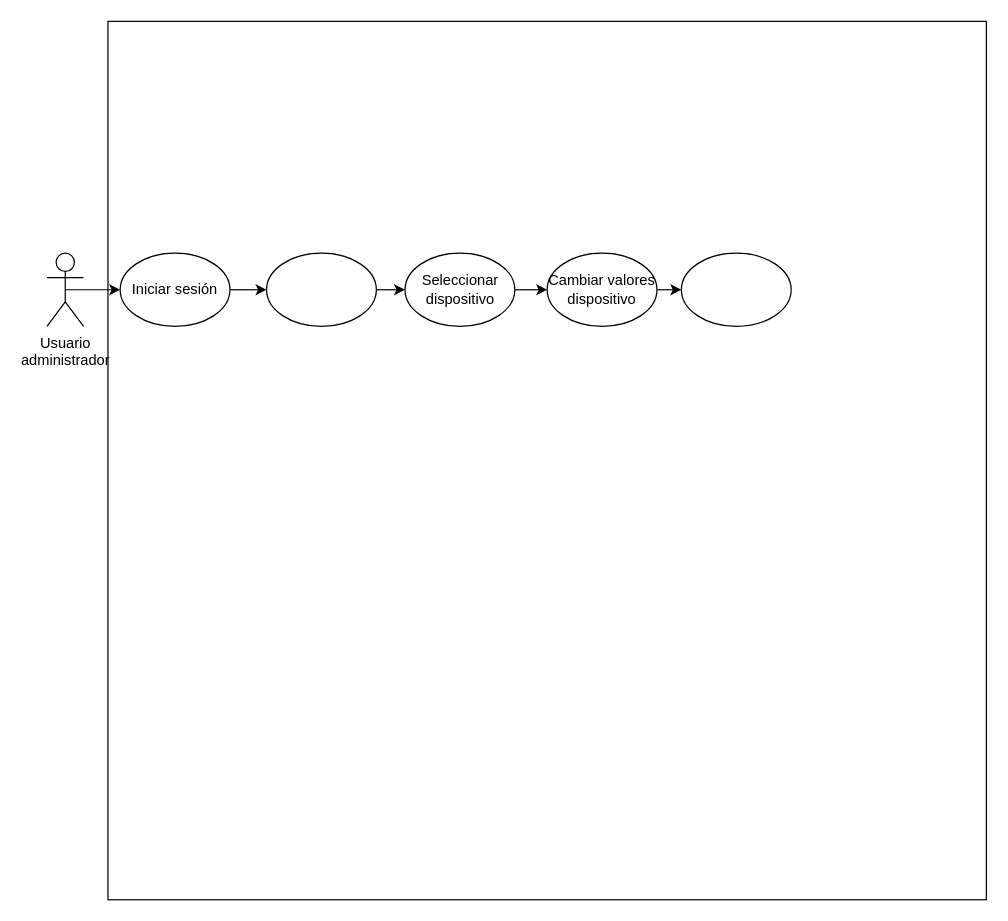
This 1008x921 diagram has some shape labels left out. Each missing label, with the box of its shape:
Acceder apartado dispositivos: (265, 252, 376, 326)
Guardar cambios: (680, 252, 791, 326)
